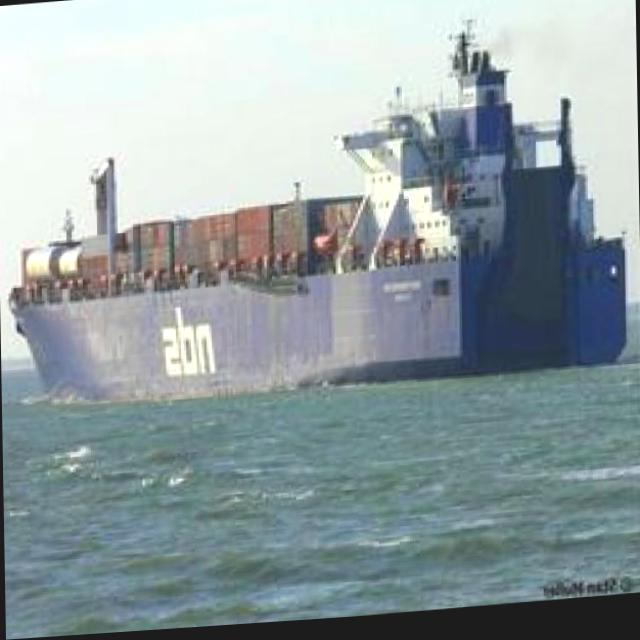ship2: (7, 61, 625, 406)
